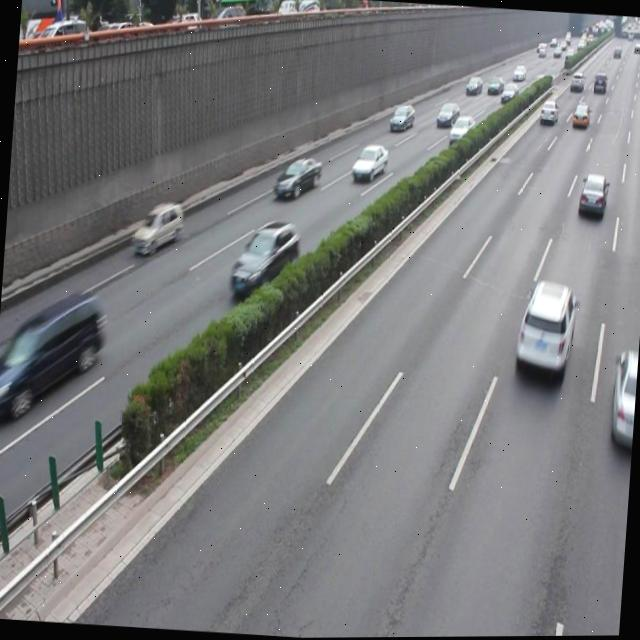car: (512, 276, 577, 379), (228, 216, 300, 303), (606, 346, 638, 450), (129, 198, 184, 256), (272, 153, 322, 204), (350, 143, 387, 182), (576, 172, 606, 218)
truck: (0, 286, 108, 429)
